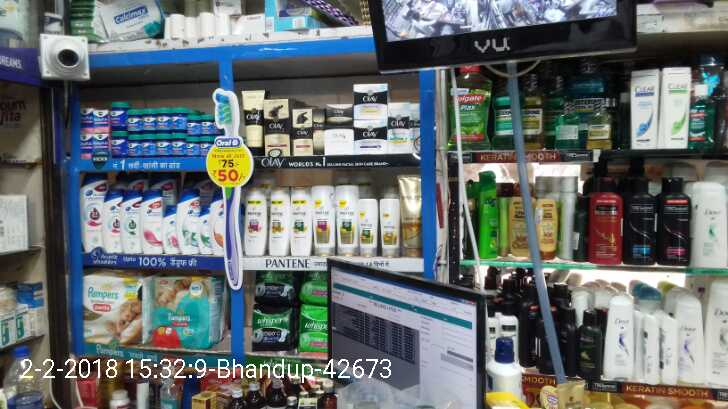vicks: (80, 100, 220, 156)
